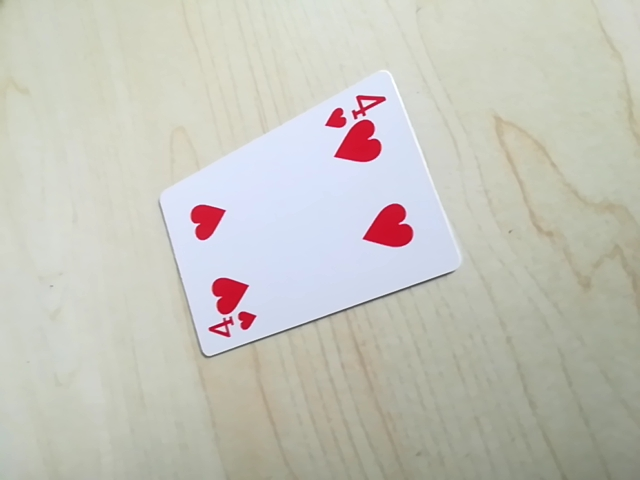hx 4: (321, 88, 389, 128), (202, 312, 260, 346)
